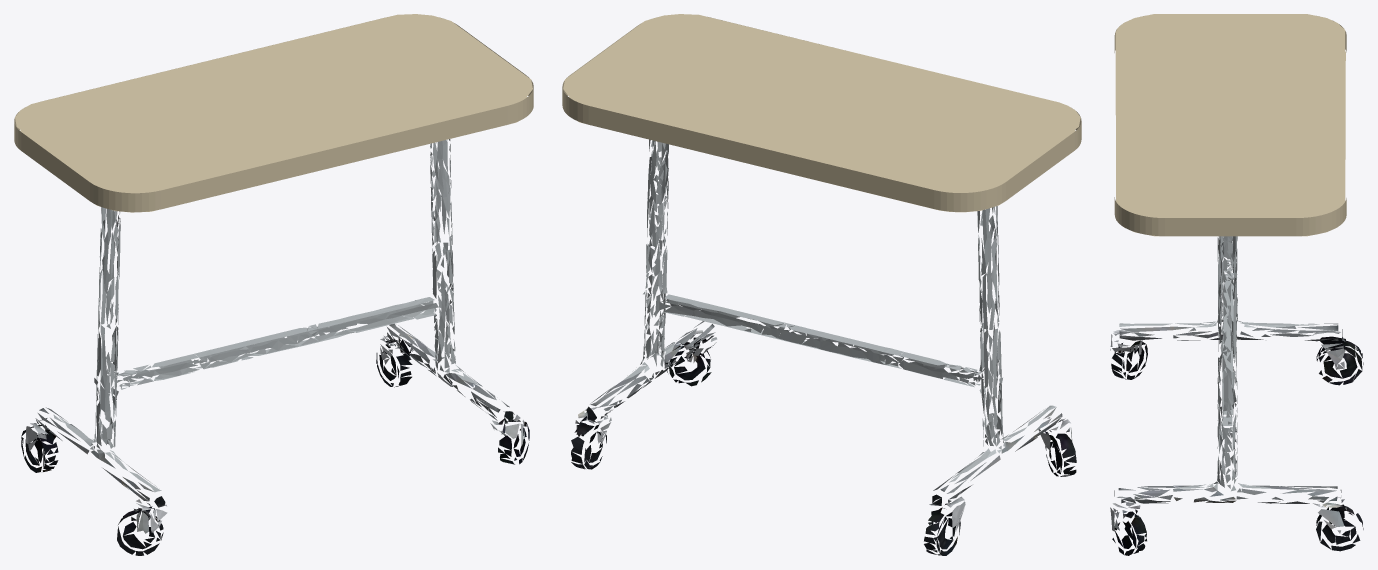
The picture shows the model from 3 angles, left to right: view 1: azimuth 30°, elevation 25°; view 2: azimuth 150°, elevation 25°; view 3: azimuth 270°, elevation 25°; orthographic projection. The views are drawn at different scales.
Visible parts, largest first — view 1: Rounded flat tabletop, geometry_0; view 2: Rounded flat tabletop, geometry_0; view 3: Rounded flat tabletop, geometry_0.
Boxes of the visible parts, x1=… form: Rounded flat tabletop: x1=14, y1=14, x2=533, y2=212; geometry_0: x1=21, y1=139, x2=529, y2=555; Rounded flat tabletop: x1=562, y1=14, x2=1081, y2=212; geometry_0: x1=571, y1=139, x2=1076, y2=555; Rounded flat tabletop: x1=1114, y1=14, x2=1346, y2=236; geometry_0: x1=1110, y1=236, x2=1363, y2=555.
Bounding box in the file's own units: 1.25 × 1 × 0.6571.
Materials: 3 (1 with a texture image).
